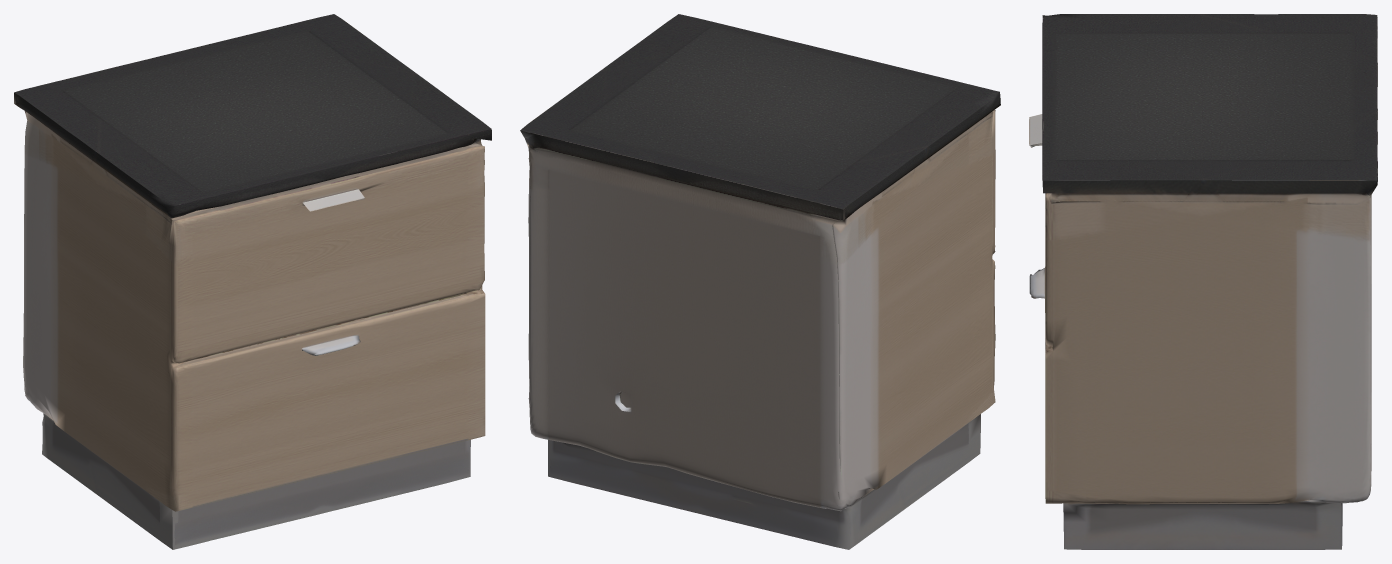
Rendered from 05-base-cabinet.glb.
3 views of the same model, side by side, from view 1: azimuth 30°, elevation 25°; view 2: azimuth 150°, elevation 25°; view 3: azimuth 270°, elevation 25° (orthographic). The views are drawn at different scales.
Visible parts, largest first — view 1: Mesh_0; view 2: Mesh_0; view 3: Mesh_0.
Part boxes in pixels (box(x1,y1,x2,y2)): Mesh_0: box(14, 14, 491, 549); Mesh_0: box(520, 14, 1000, 549); Mesh_0: box(1029, 14, 1377, 549).
Size of the model in its own units: 1.8 by 1.9 by 1.6.
1 material, 1 textured.
